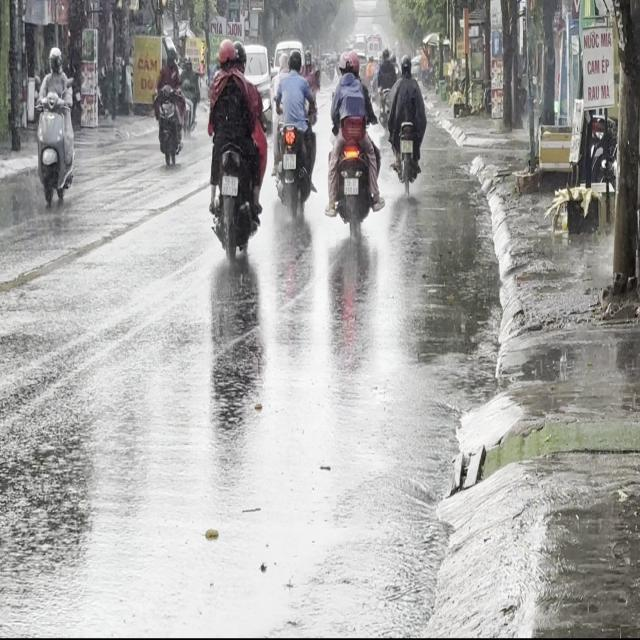helmet: (217, 38, 234, 68), (232, 39, 247, 72), (48, 45, 61, 71), (346, 49, 359, 74), (287, 49, 301, 72), (337, 49, 349, 74)
licenseplate: (203, 35, 267, 264), (323, 47, 382, 243), (270, 47, 317, 220), (33, 44, 76, 207)
nohelmet: (221, 175, 238, 195), (344, 177, 358, 193), (283, 154, 295, 168)
